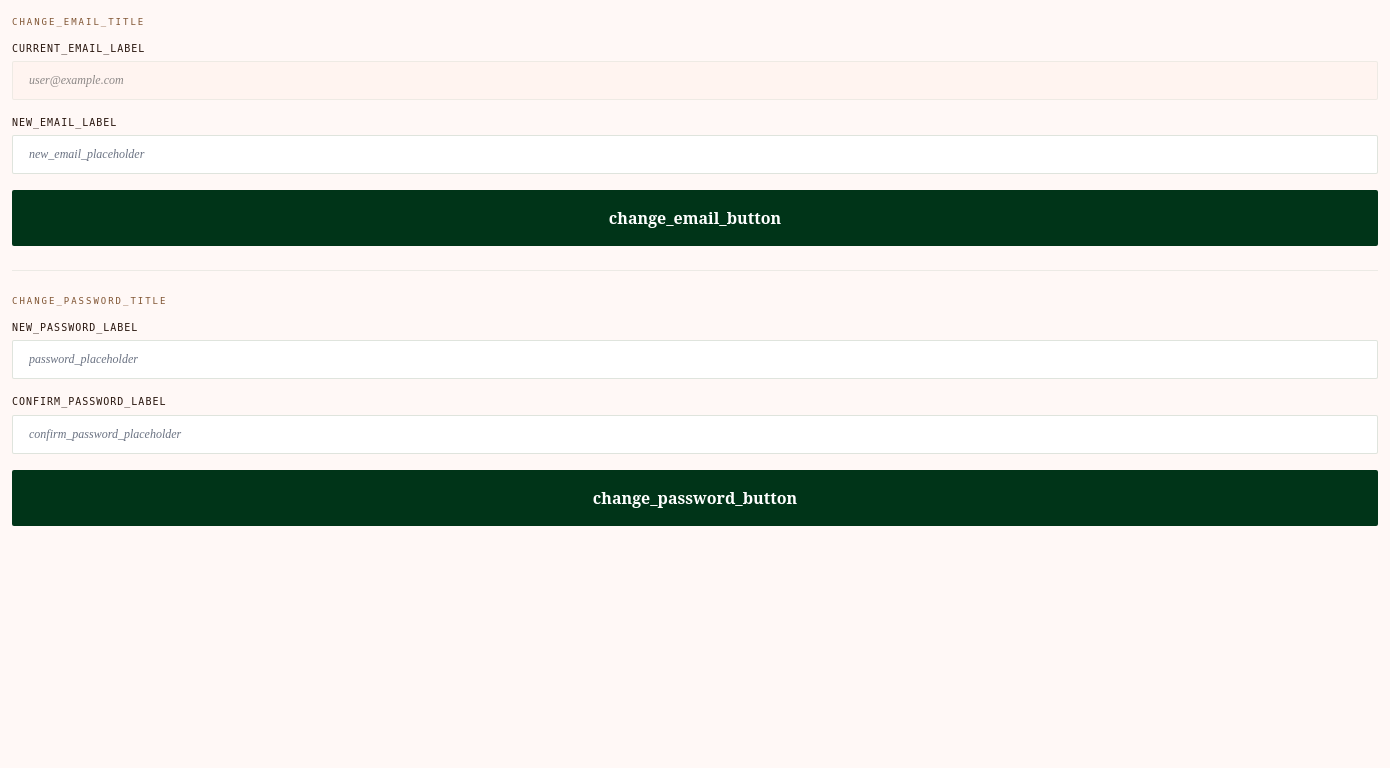
Test: SeguridadForm › muestra email_success tras cambio exitoso
The width and height of the screenshot is (1390, 768).
Type "nuevo@example.com" into the field with placeholder "new_email_placeholder" at point(695, 155), box [12,135,1378,174]
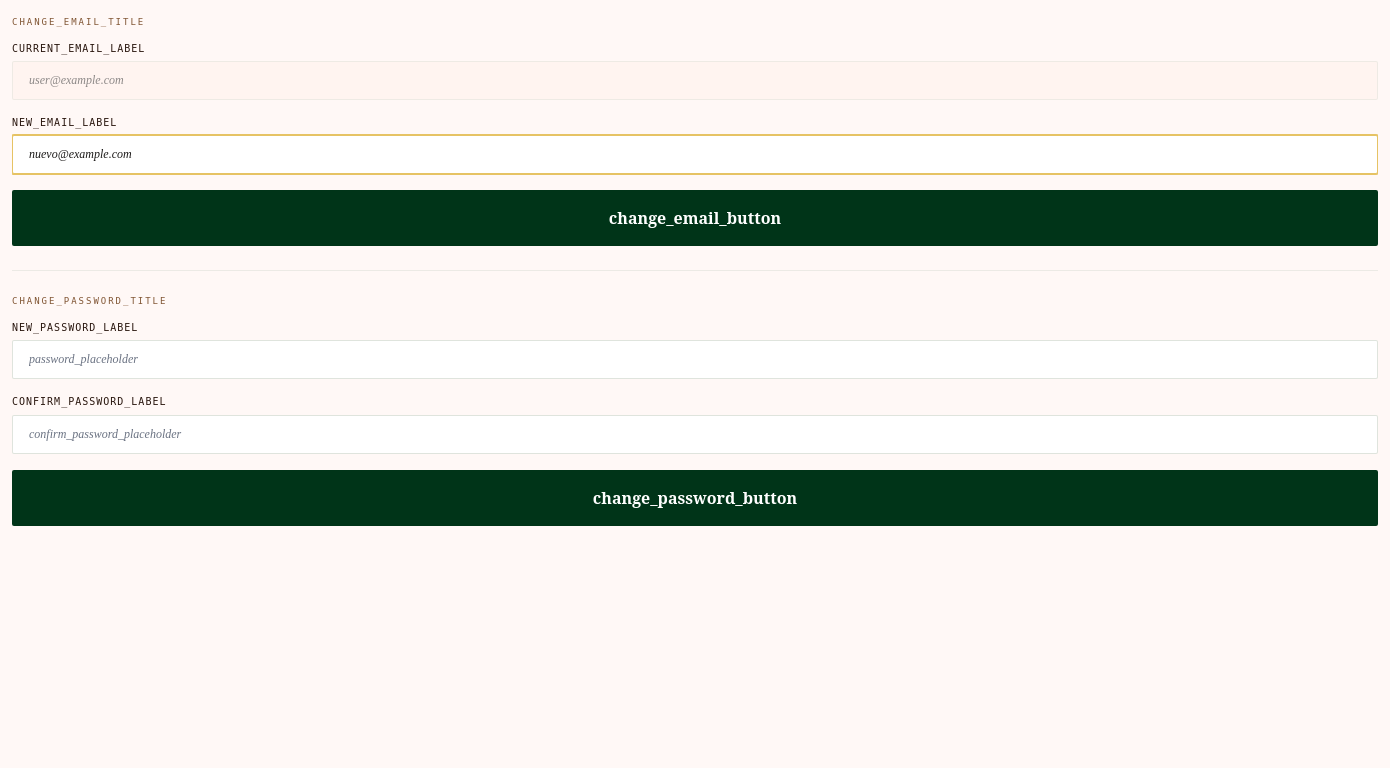
Click the button "change_email_button" at point(695, 218), box [12,190,1378,246]
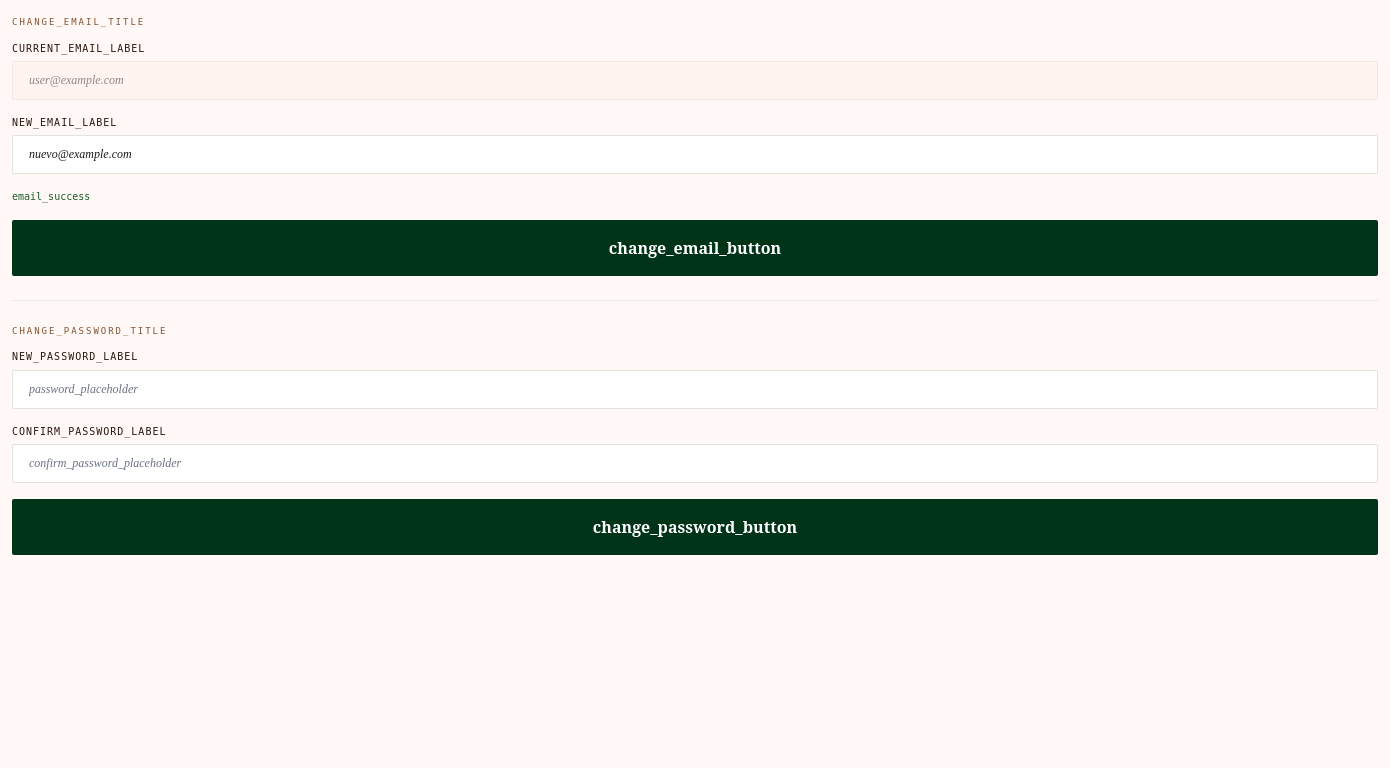
Now the text "email_success" is shown, box [12,191,90,202]
